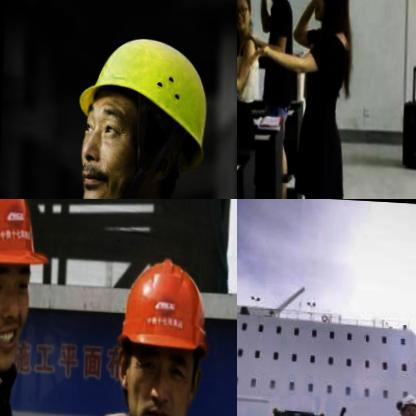head: (307, 0, 351, 27), (237, 0, 252, 32)
helmet: (48, 0, 232, 199), (93, 230, 226, 416), (0, 199, 64, 401), (394, 379, 416, 416)
